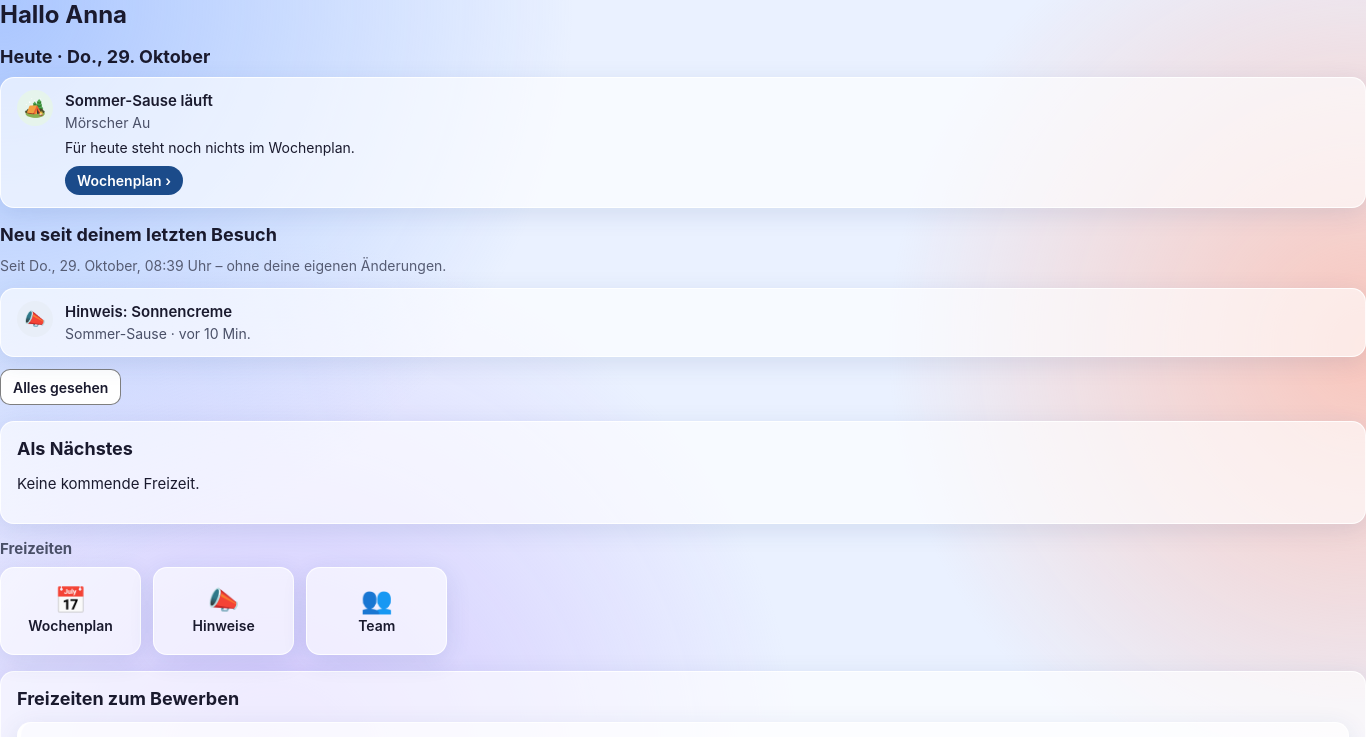
Heute: Neu seit deinem letzten Besuch › zeigt, was andere seitdem angelegt haben, und „Alles gesehen“ quittiert und lädt neu
The image size is (1366, 737).
Click the button "Alles gesehen" at {"x": 61, "y": 387}, box [0,369,121,405]
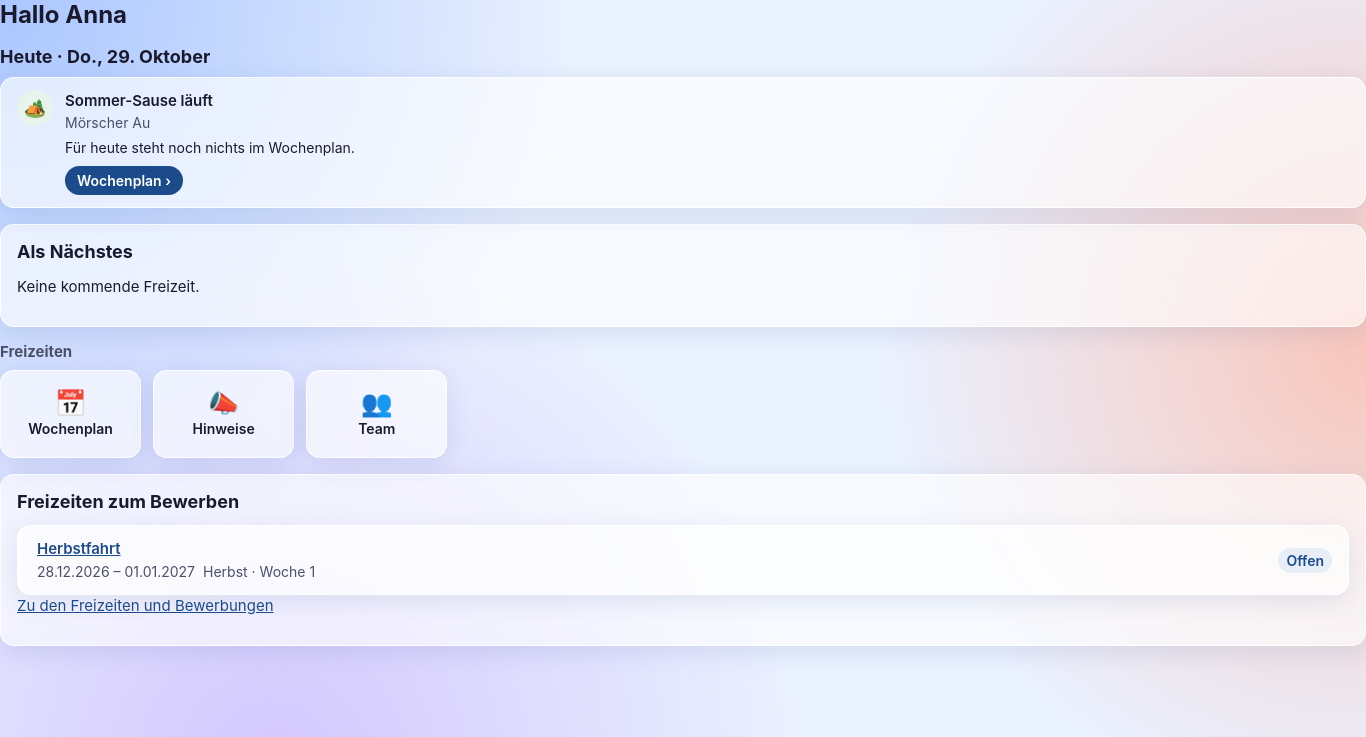
Now the heading "Neu seit deinem letzten Besuch" is gone
